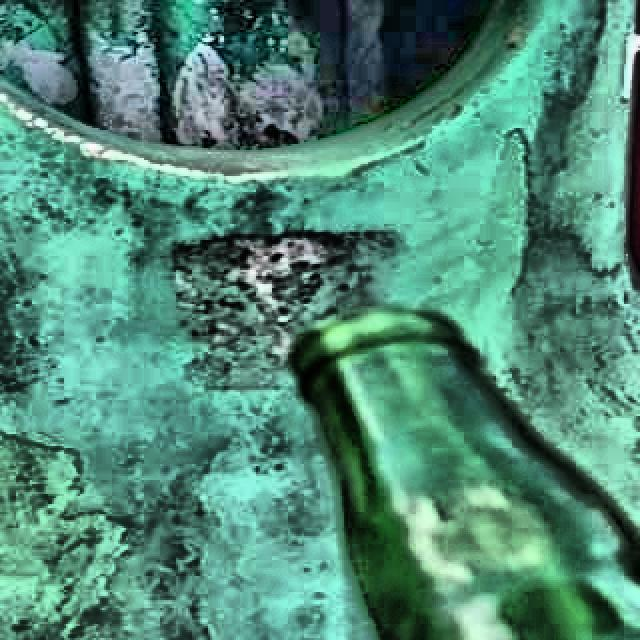glass: (293, 308, 640, 640)
